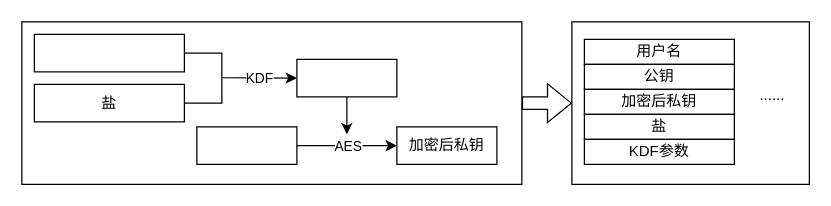
This 831x206 diagram has some shape labels left out. The shapes that lost their labels are listed below. From the top down, each one's centre as x and y in pixels, then its label:
At (x=108, y=52): "主密钥(登录密钥)".
At (x=346, y=77): "enc_key".
At (x=246, y=145): "RSA私钥".
